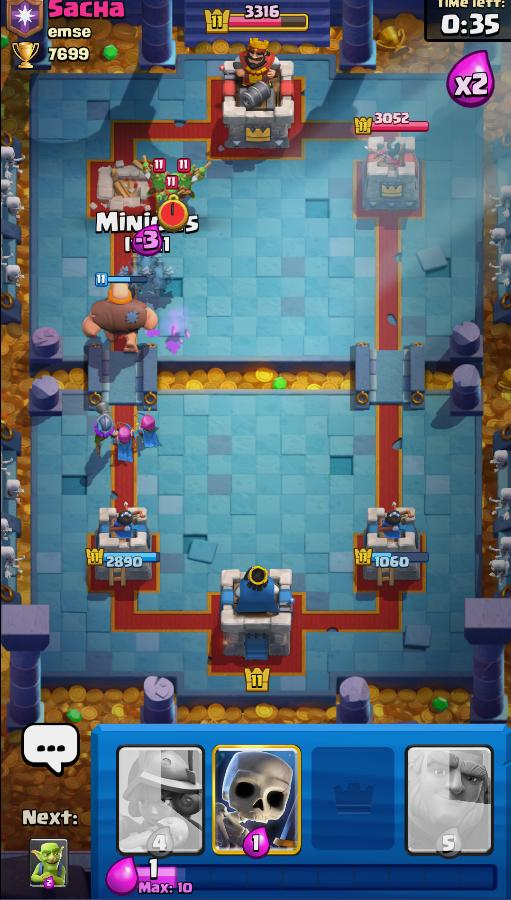archere: (138, 412, 163, 452), (116, 425, 135, 464)
gargouille: (136, 257, 163, 277), (153, 270, 176, 292), (117, 266, 135, 277)
geant: (75, 273, 164, 356)
gobelin_lances: (175, 157, 208, 191), (144, 160, 170, 187), (161, 181, 186, 209)
mousquetaire: (88, 415, 117, 453)
